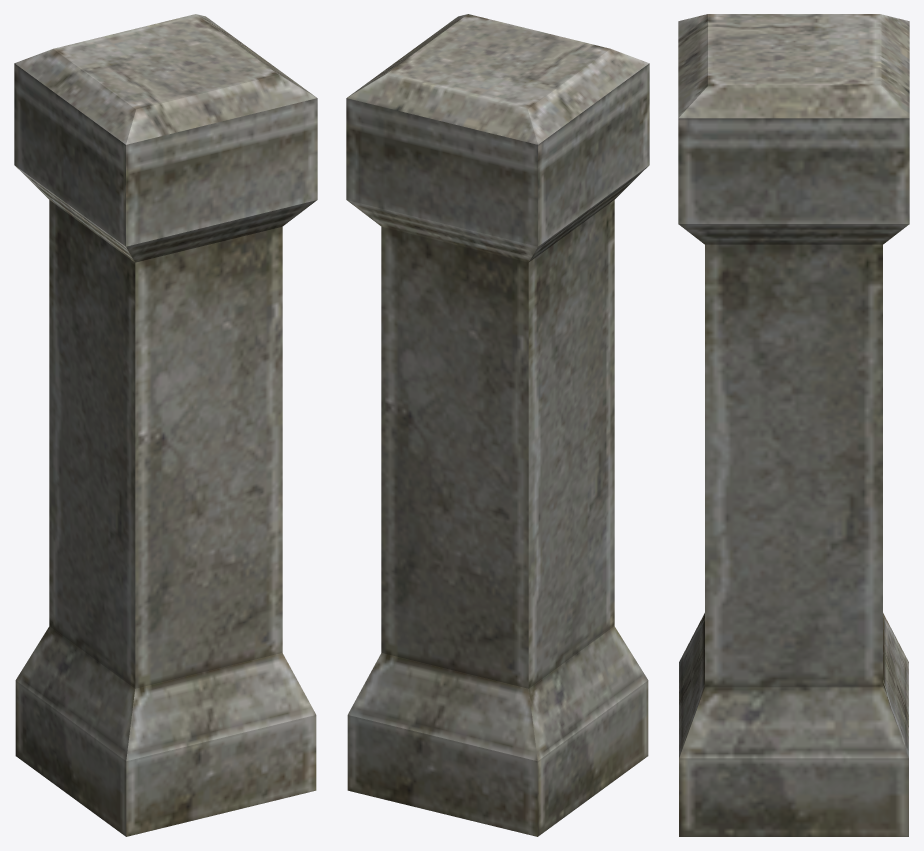
File: bg_lut_lucastle_monument03_sm_sup.FBX
3 renders of one model, left to right at view 1: azimuth 30°, elevation 25°; view 2: azimuth 150°, elevation 25°; view 3: azimuth 270°, elevation 25°, orthographic. The views are drawn at different scales.
Parts seen in each view (by area): view 1: bg_lut_lucastle_monument03_sm_sup; view 2: bg_lut_lucastle_monument03_sm_sup; view 3: bg_lut_lucastle_monument03_sm_sup.
Part boxes in pixels (x1,y1,x2,y2): bg_lut_lucastle_monument03_sm_sup: [14, 14, 317, 836]; bg_lut_lucastle_monument03_sm_sup: [346, 14, 649, 836]; bg_lut_lucastle_monument03_sm_sup: [678, 14, 909, 836].
Bounding box in the file's own units: 24.11 × 85.57 × 24.3.
